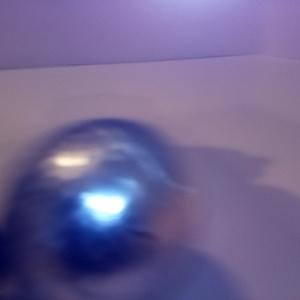alive_ball: (11, 120, 196, 299)
